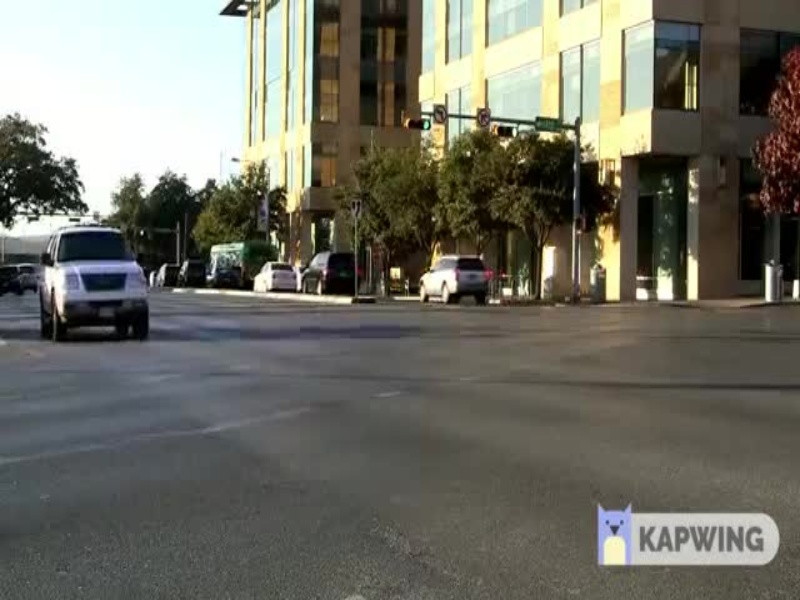car: (247, 261, 301, 297)
suv: (35, 224, 159, 340), (411, 251, 508, 305), (298, 245, 369, 297)
